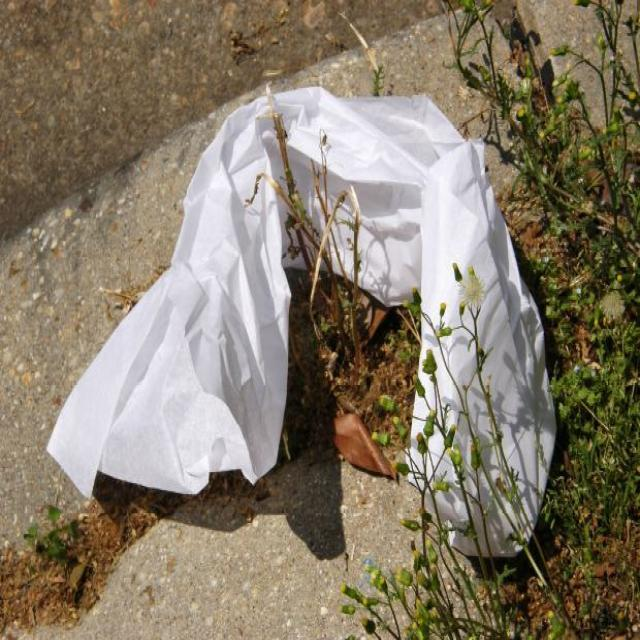plastic: (74, 97, 539, 560)
